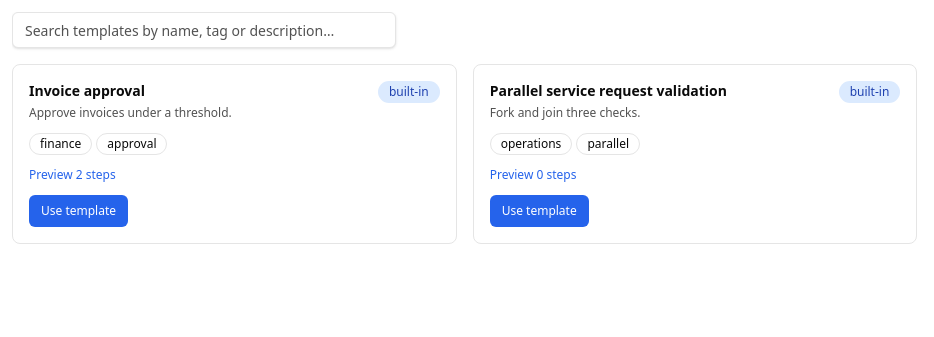
Scenario: TemplateGallery › expands a step preview
Expected: the heading "Invoice approval" is shown, x1=29 y1=81 x2=145 y2=100
What coordinates should you click on to do the following:
click the button "Preview 2 steps"
I would click on:
 (72, 174)
Its box is x1=29 y1=167 x2=440 y2=183.
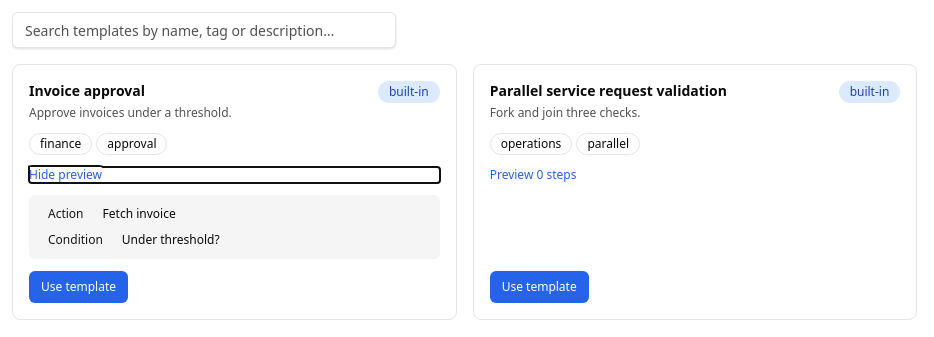
Expected: the text "Fetch invoice" is shown, x1=102 y1=206 x2=176 y2=222
Expected: the text "Under threshold?" is shown, x1=122 y1=232 x2=220 y2=248
